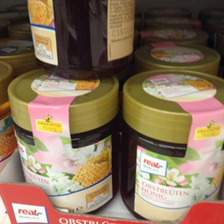honey: (6, 65, 121, 219), (124, 68, 223, 224)
